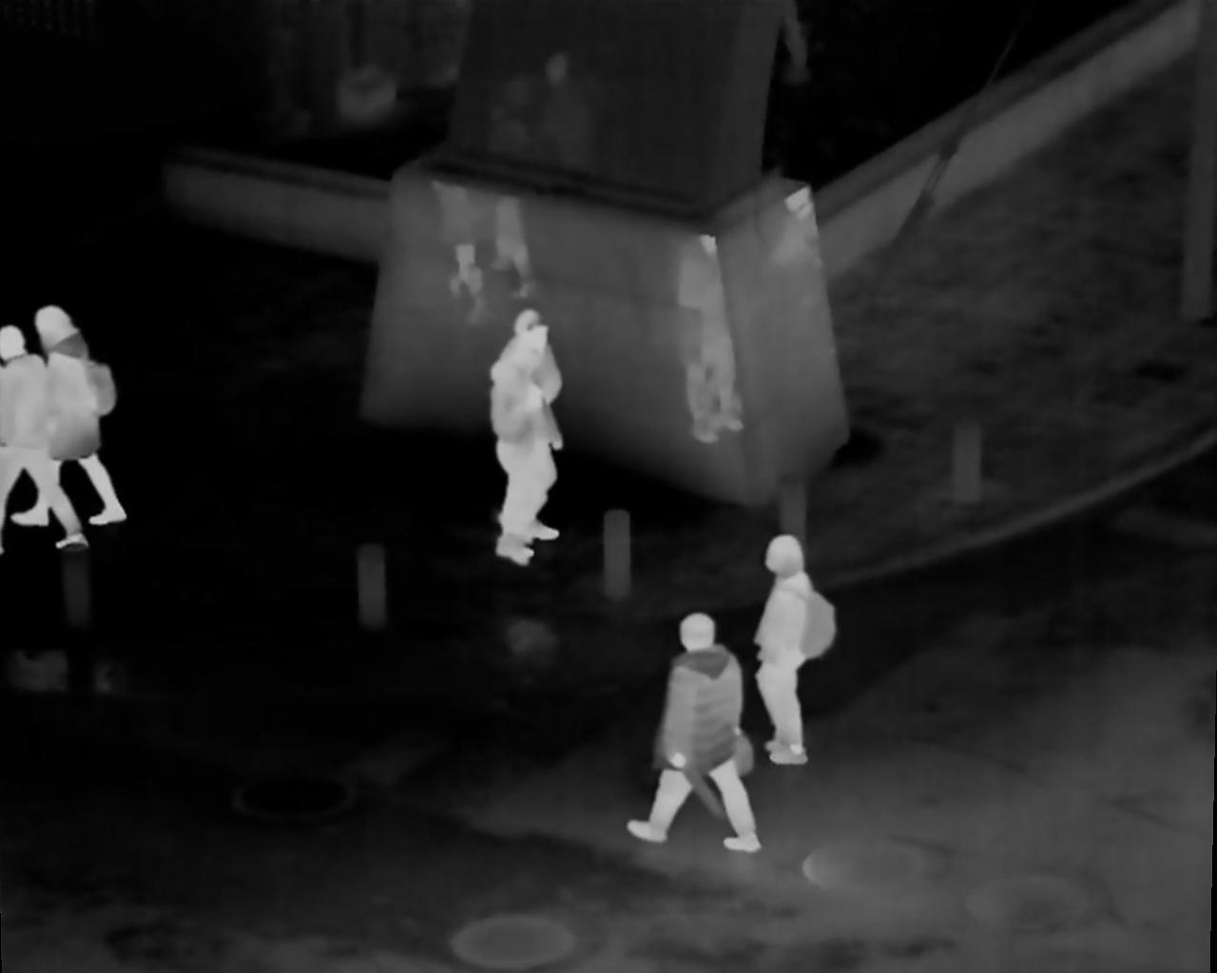person: (644, 594, 747, 854), (32, 301, 145, 514), (484, 312, 563, 571), (761, 532, 840, 765)
